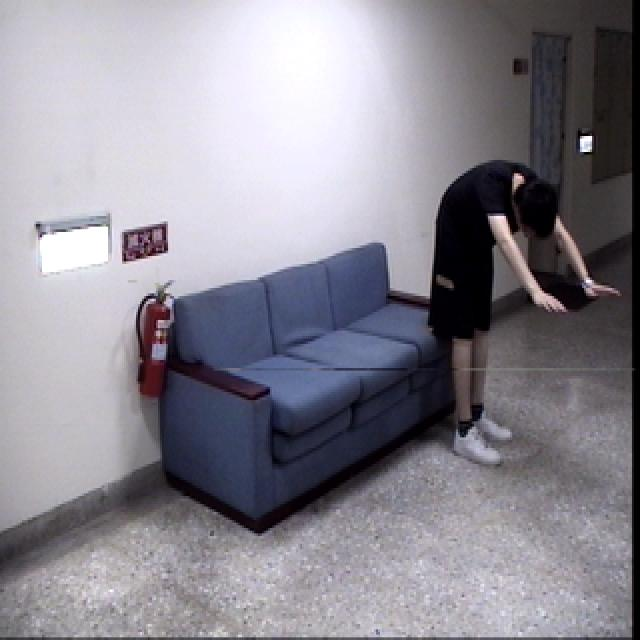bend: (425, 146, 621, 475)
